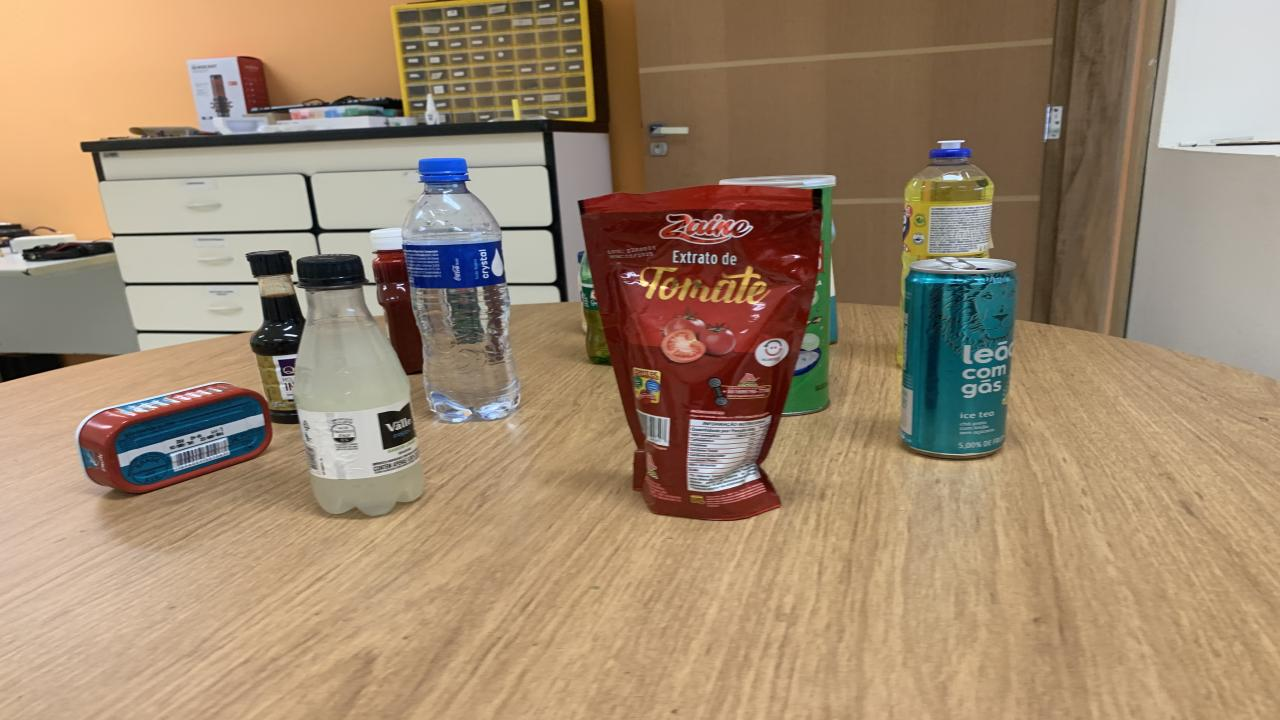Detergent-Cleanup_Items: (902, 141, 995, 302)
English_Sauce-Pantry_Items: (248, 249, 305, 424)
Guarana-Drinks: (578, 255, 610, 364)
Ketchup-Pantry_Items: (370, 229, 422, 373)
Pringles-Snacks: (720, 174, 835, 416)
Soda-Drinks: (295, 255, 422, 516)
Tea-Drinks: (900, 257, 1018, 458)
Tomato_Sauce-Pantry_Items: (580, 186, 822, 519)
Tuna_Can-Pantry_Items: (75, 382, 270, 493)
Water_Bottle-Drinks: (402, 159, 520, 422)
